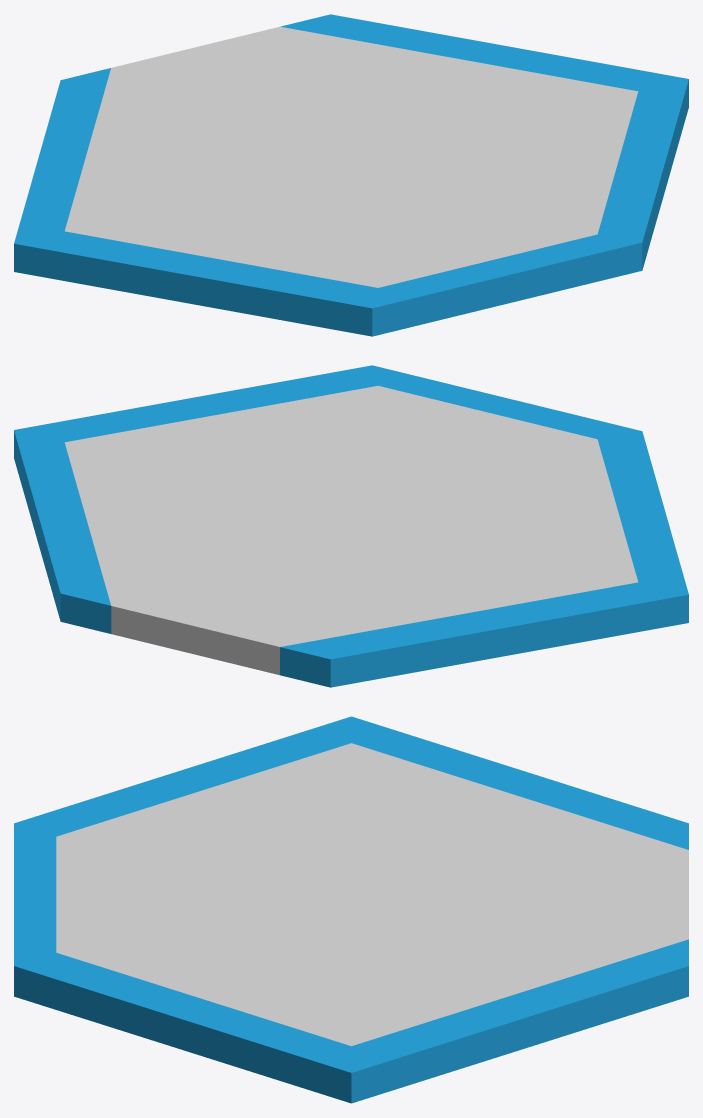
3 renders of one model, top to bottom at view 1: azimuth 30°, elevation 25°; view 2: azimuth 150°, elevation 25°; view 3: azimuth 270°, elevation 25°, orthographic. The views are drawn at different scales.
Visible parts, largest first — view 1: Hexagon, SWx, Sx, SEx, NE.001, NW.001; view 2: Hexagon, NW.001, NE.001, SEx, SWx, Sx; view 3: Hexagon, NE.001, SEx, NW.001, SWx, Sx.
Part boxes in pixels (box(x1,y1,x2,y2)): Hexagon: box(65, 26, 638, 287); SWx: box(14, 231, 377, 336); Sx: box(372, 234, 642, 336); SEx: box(598, 79, 688, 269); NE.001: box(281, 14, 687, 91); NW.001: box(14, 68, 110, 243); Hexagon: box(64, 386, 637, 675); NW.001: box(280, 582, 688, 687); NE.001: box(14, 430, 111, 633); SEx: box(15, 365, 377, 442); SWx: box(597, 431, 688, 594); Sx: box(372, 365, 641, 439); Hexagon: box(56, 743, 688, 1045); NE.001: box(351, 939, 688, 1103); SEx: box(14, 952, 351, 1103); NW.001: box(351, 716, 688, 849); SWx: box(14, 716, 351, 836); Sx: box(14, 823, 56, 965).
Size of the model in its own units: 5 by 4 by 0.2.
